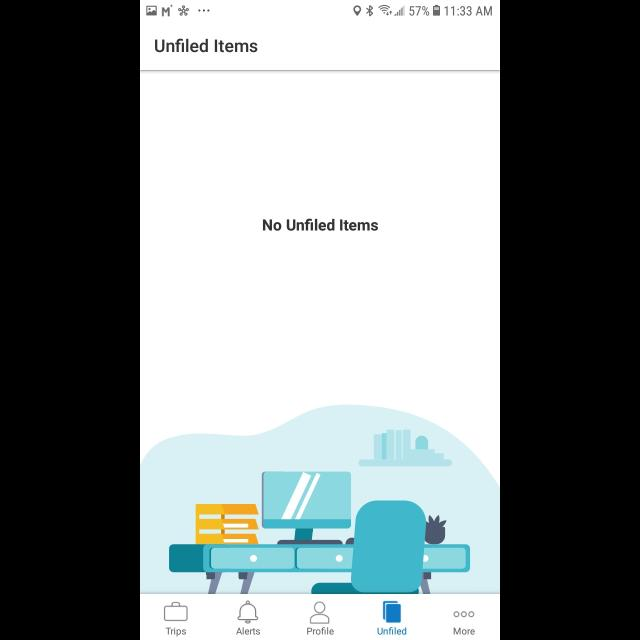icon: (310, 600, 330, 624), (238, 600, 258, 624), (164, 602, 188, 622), (383, 601, 401, 623), (454, 610, 474, 618)
image: (140, 406, 500, 594)
text: (264, 218, 378, 232), (154, 39, 258, 53), (377, 627, 407, 635), (166, 627, 187, 637), (308, 627, 334, 635), (236, 627, 260, 635), (453, 627, 475, 635)
uppertaskbar: (140, 1, 500, 17)
